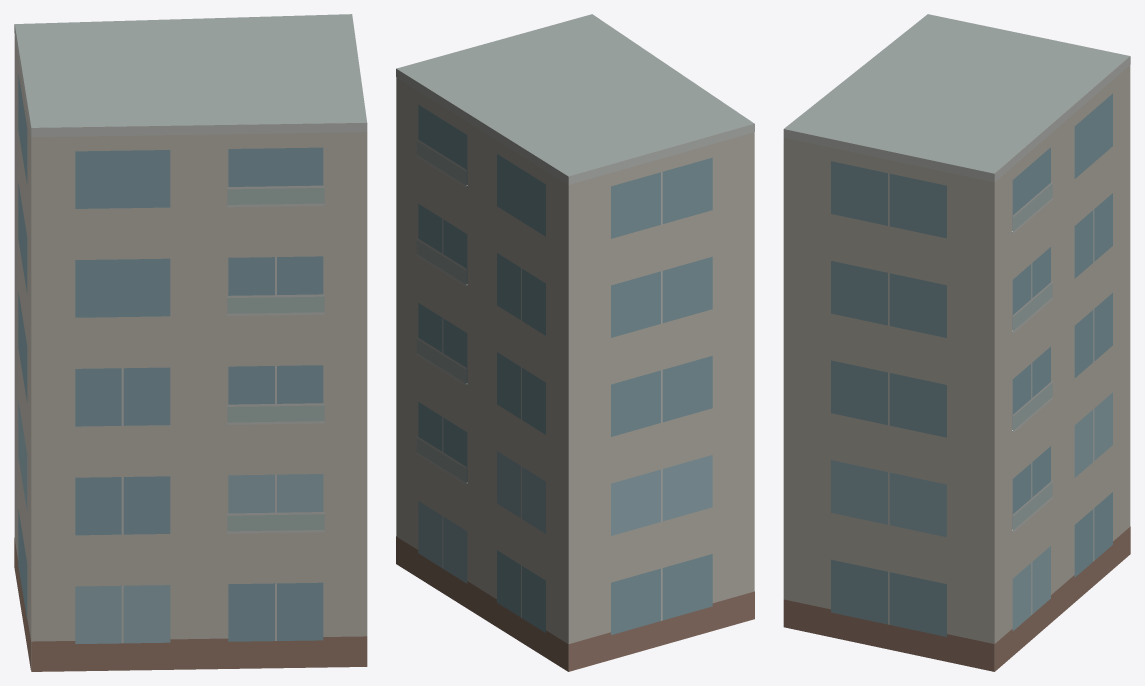
File: survey-upis-32734779.glb
3 renders of one model, left to right at view 1: azimuth 30°, elevation 25°; view 2: azimuth 150°, elevation 25°; view 3: azimuth 270°, elevation 25°, orthographic. The views are drawn at different scales.
Parts seen in each view (by area): view 1: survey-upis-32734779.tmp; view 2: survey-upis-32734779.tmp; view 3: survey-upis-32734779.tmp.
Boxes of the visible parts, bbox=[...] form: survey-upis-32734779.tmp: bbox=[14, 14, 367, 671]; survey-upis-32734779.tmp: bbox=[396, 14, 754, 671]; survey-upis-32734779.tmp: bbox=[783, 14, 1130, 671].
Size of the model in its own units: 9.84 by 14.3 by 9.03.
